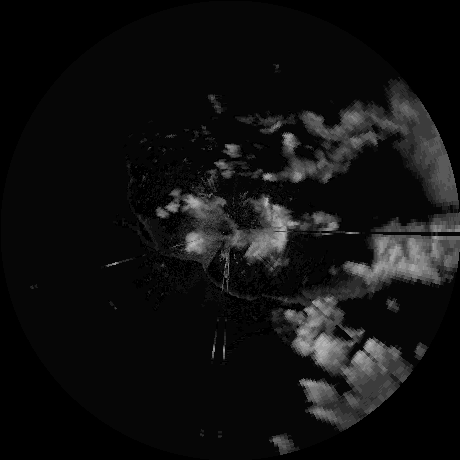frontgust: (199, 265, 304, 306), (140, 216, 199, 261)
